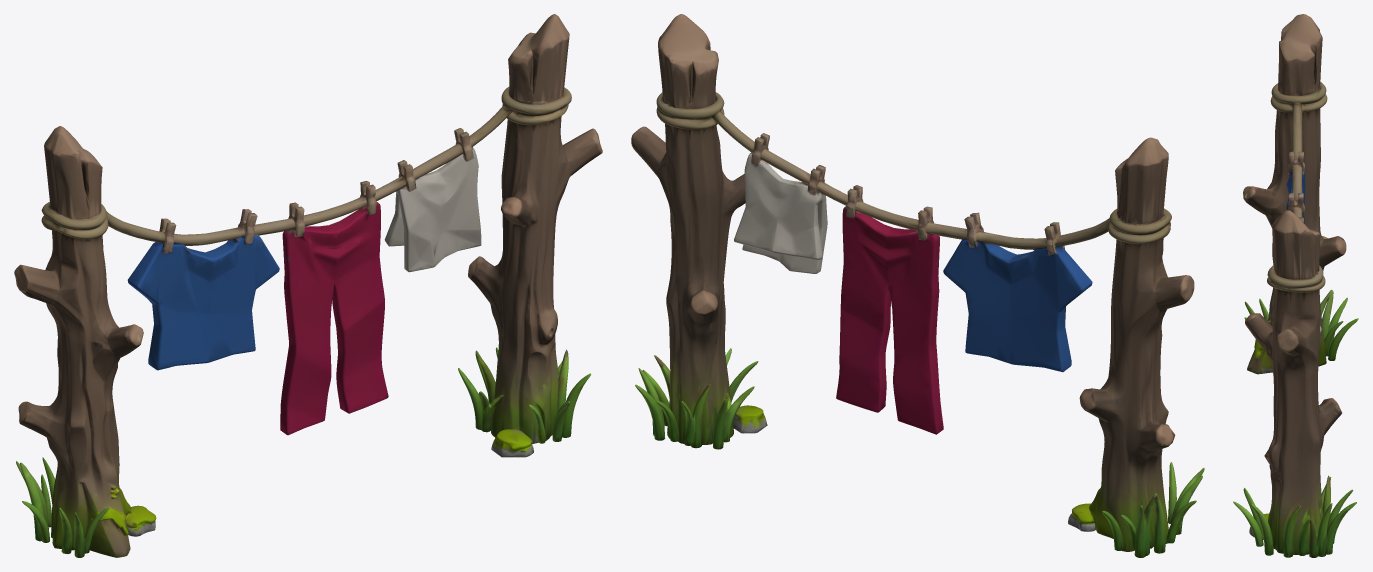
File: washing-line.glb
The picture shows the model from 3 angles, left to right: view 1: azimuth 30°, elevation 25°; view 2: azimuth 150°, elevation 25°; view 3: azimuth 270°, elevation 25°; orthographic projection. The views are drawn at different scales.
Parts seen in each view (by area): view 1: node_0; view 2: node_0; view 3: node_0.
Part boxes in pixels (x1=…): node_0: x1=14, y1=14, x2=602, y2=557; node_0: x1=631, y1=14, x2=1204, y2=557; node_0: x1=1233, y1=14, x2=1358, y2=557.
Bounding box in the file's own units: 1.04 × 0.719 × 0.238.
Materials: 1 (1 with a texture image).
